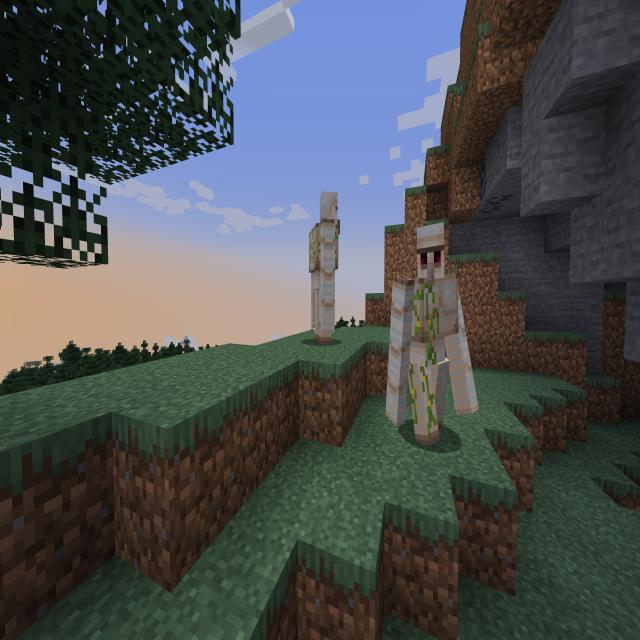Iron Golem: (382, 217, 480, 448), (307, 188, 341, 346)
